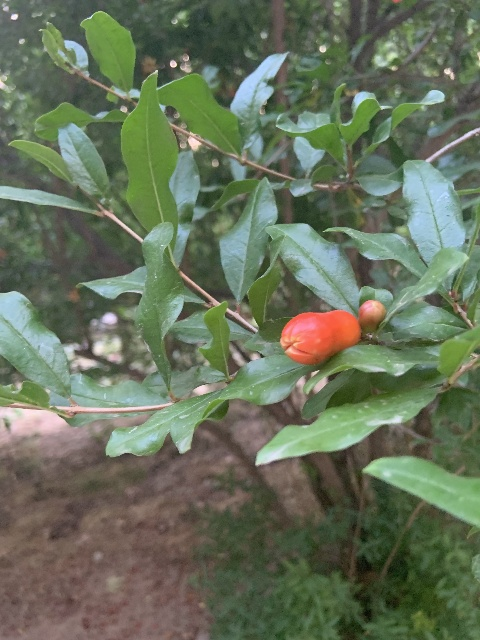bud: (280, 309, 360, 365), (358, 299, 385, 332)
